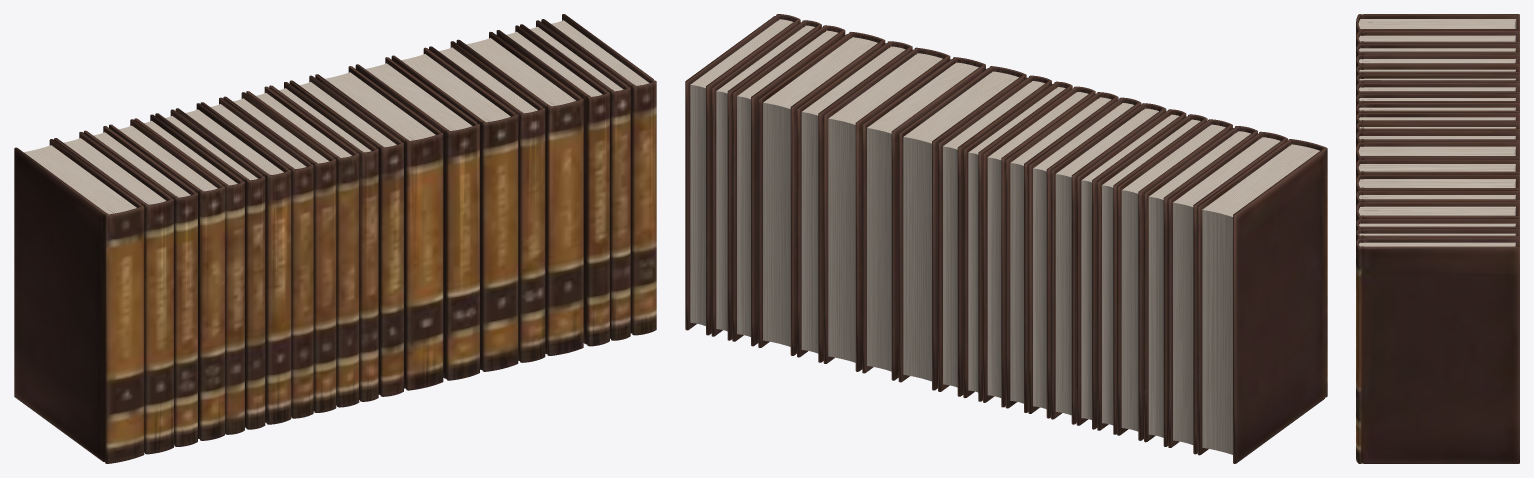
Rendered from book_encyclopedia_set_01.glb.
3 renders of one model, left to right at view 1: azimuth 30°, elevation 25°; view 2: azimuth 150°, elevation 25°; view 3: azimuth 270°, elevation 25°, orthographic. The views are drawn at different scales.
Visible parts, largest first — view 1: book_encyclopedia_set_01_book01, book_encyclopedia_set_01_book13, book_encyclopedia_set_01_book15, book_encyclopedia_set_01_book17, book_encyclopedia_set_01_book14, book_encyclopedia_set_01_book02, book_encyclopedia_set_01_book16, book_encyclopedia_set_01_book04, book_encyclopedia_set_01_book18, book_encyclopedia_set_01_book20, book_encyclopedia_set_01_book07, book_encyclopedia_set_01_book12 (+8 smaller); view 2: book_encyclopedia_set_01_book01, book_encyclopedia_set_01_book13, book_encyclopedia_set_01_book15, book_encyclopedia_set_01_book17, book_encyclopedia_set_01_book14, book_encyclopedia_set_01_book02, book_encyclopedia_set_01_book04, book_encyclopedia_set_01_book16, book_encyclopedia_set_01_book20, book_encyclopedia_set_01_book18, book_encyclopedia_set_01_book07, book_encyclopedia_set_01_book12 (+8 smaller); view 3: book_encyclopedia_set_01_book20, book_encyclopedia_set_01_book13, book_encyclopedia_set_01_book01, book_encyclopedia_set_01_book17, book_encyclopedia_set_01_book15, book_encyclopedia_set_01_book14, book_encyclopedia_set_01_book02, book_encyclopedia_set_01_book16, book_encyclopedia_set_01_book03, book_encyclopedia_set_01_book12, book_encyclopedia_set_01_book07, book_encyclopedia_set_01_book04 (+8 smaller).
Boxes of the visible parts, x1,y1,x2,y2 form: book_encyclopedia_set_01_book01: (14,139,144,463); book_encyclopedia_set_01_book13: (315,66,443,390); book_encyclopedia_set_01_book15: (391,47,518,371); book_encyclopedia_set_01_book17: (456,31,583,355); book_encyclopedia_set_01_book14: (355,57,479,380); book_encyclopedia_set_01_book02: (54,132,173,454); book_encyclopedia_set_01_book16: (429,41,545,362); book_encyclopedia_set_01_book04: (109,119,224,440); book_encyclopedia_set_01_book18: (496,25,609,346); book_encyclopedia_set_01_book20: (541,14,656,335); book_encyclopedia_set_01_book07: (175,103,291,424); book_encyclopedia_set_01_book12: (289,75,403,396); book_encyclopedia_set_01_book01: (1197,139,1327,463); book_encyclopedia_set_01_book13: (898,66,1026,390); book_encyclopedia_set_01_book15: (823,47,950,371); book_encyclopedia_set_01_book17: (758,32,885,355); book_encyclopedia_set_01_book14: (862,57,985,380); book_encyclopedia_set_01_book02: (1168,131,1287,454); book_encyclopedia_set_01_book04: (1117,119,1232,440); book_encyclopedia_set_01_book16: (797,41,912,362); book_encyclopedia_set_01_book20: (685,14,800,335); book_encyclopedia_set_01_book18: (732,25,845,346); book_encyclopedia_set_01_book07: (1051,103,1166,424); book_encyclopedia_set_01_book12: (938,75,1051,396); book_encyclopedia_set_01_book20: (1356,238,1519,463); book_encyclopedia_set_01_book13: (1356,142,1519,165); book_encyclopedia_set_01_book01: (1356,14,1519,35); book_encyclopedia_set_01_book17: (1356,202,1519,221); book_encyclopedia_set_01_book15: (1356,174,1519,194); book_encyclopedia_set_01_book14: (1356,159,1519,180); book_encyclopedia_set_01_book02: (1356,30,1519,47); book_encyclopedia_set_01_book16: (1356,190,1519,222); book_encyclopedia_set_01_book03: (1356,43,1519,58); book_encyclopedia_set_01_book12: (1356,131,1519,149); book_encyclopedia_set_01_book07: (1356,82,1519,96); book_encyclopedia_set_01_book04: (1356,54,1519,68).
Bounding box in the file's own units: 0.5513 × 0.2374 × 0.1631.
Materials: 2 (2 with a texture image).
